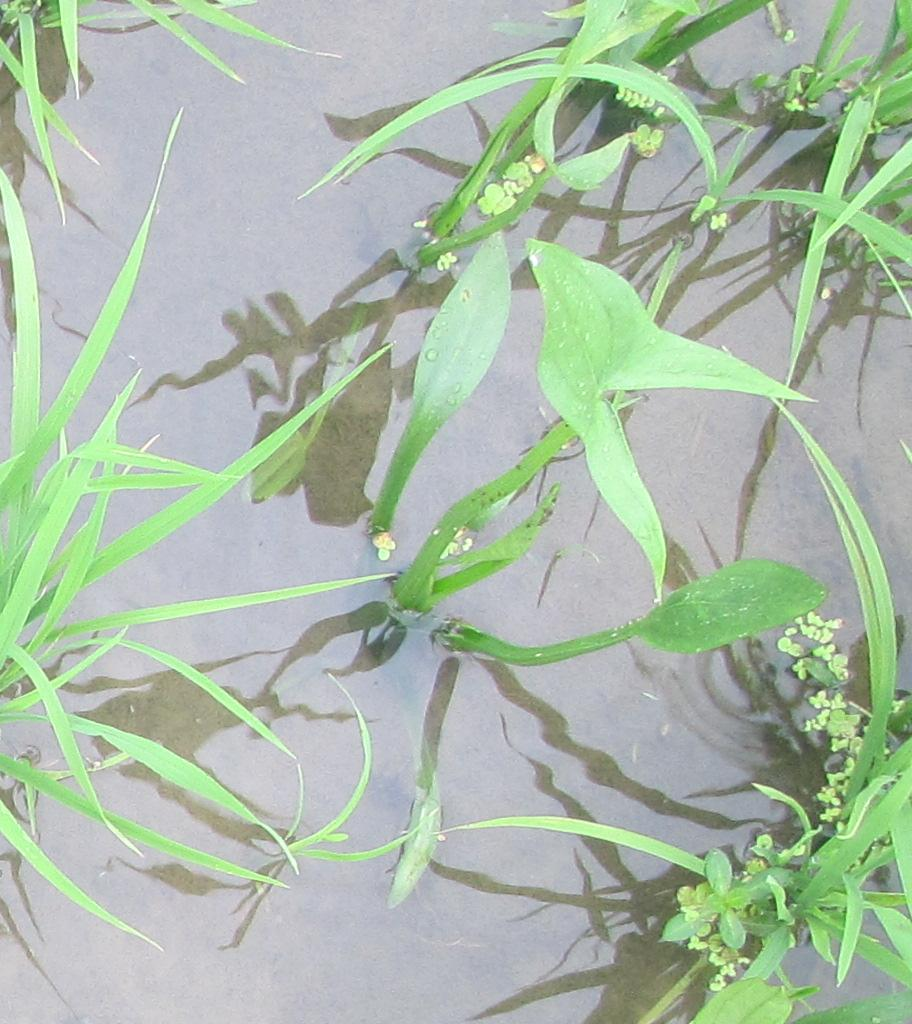Weed: (522, 236, 824, 658), (636, 561, 852, 685), (399, 239, 513, 463), (639, 838, 808, 952)
